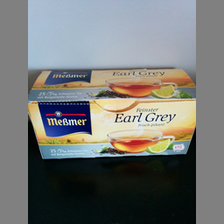tea: (28, 69, 195, 160)
